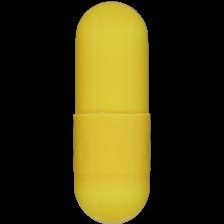70786-0814: (0, 0, 224, 224)
